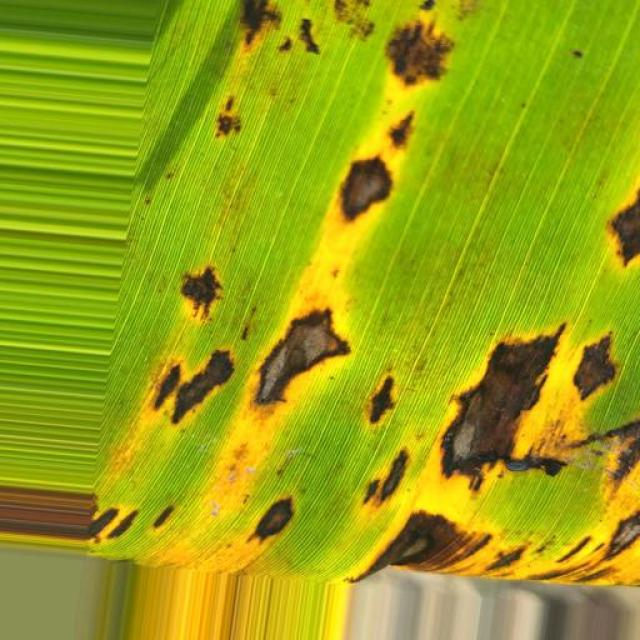Early_rust: (57, 0, 640, 619)
